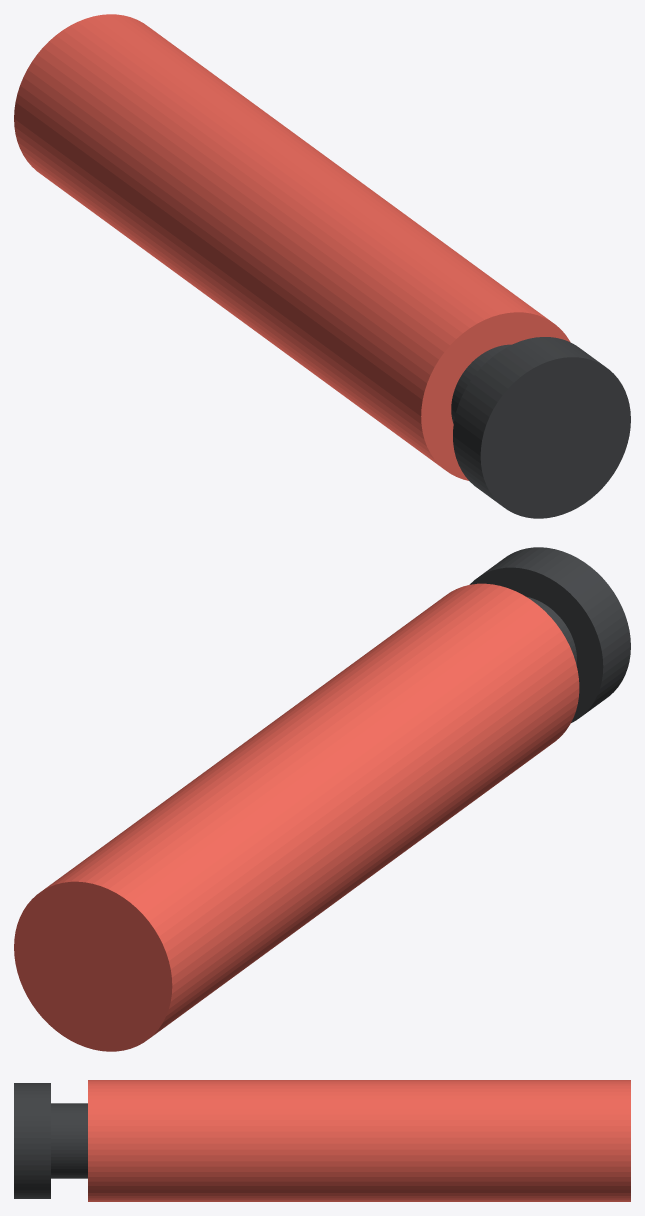
The picture shows the model from 3 angles, top to bottom: view 1: azimuth 30°, elevation 25°; view 2: azimuth 150°, elevation 25°; view 3: azimuth 270°, elevation 25°; orthographic projection. The views are drawn at different scales.
Parts seen in each view (by area): view 1: sx50_body_0, sx50_body_2, sx50_body_3, sx50_body_1; view 2: sx50_body_0, sx50_body_2, sx50_body_3; view 3: sx50_body_0, sx50_body_2, sx50_body_1, sx50_body_3.
Boxes of the visible parts, left/top/right/bottom form: sx50_body_0: left=14, top=14, right=570, bottom=480; sx50_body_2: left=453, top=337, right=630, bottom=518; sx50_body_3: left=14, top=14, right=158, bottom=177; sx50_body_1: left=451, top=344, right=511, bottom=423; sx50_body_0: left=14, top=583, right=579, bottom=1051; sx50_body_2: left=469, top=547, right=630, bottom=722; sx50_body_3: left=14, top=868, right=190, bottom=1051; sx50_body_0: left=88, top=1080, right=630, bottom=1201; sx50_body_2: left=14, top=1083, right=50, bottom=1198; sx50_body_1: left=51, top=1103, right=87, bottom=1178; sx50_body_3: left=606, top=1080, right=630, bottom=1201.
Bounding box in the file's own units: 0.032 × 0.032 × 0.162.
